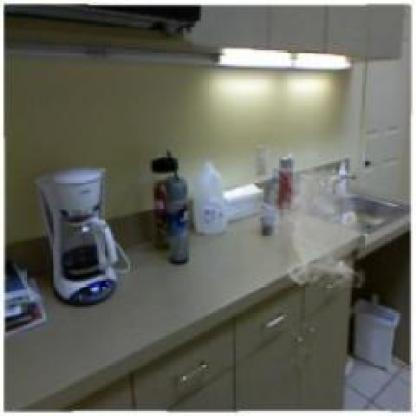Smoke: (242, 142, 372, 288)
